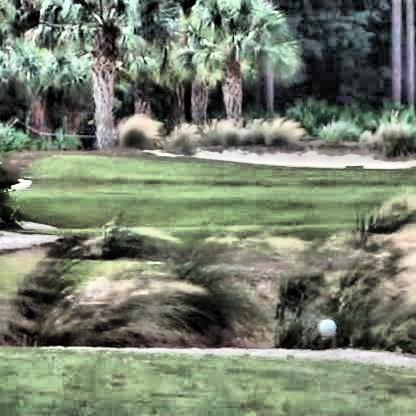golfball: (315, 315, 335, 335)
